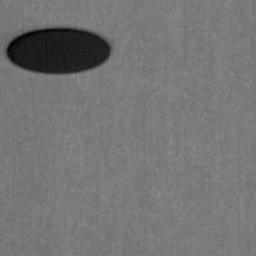Punching: (6, 28, 110, 74)
